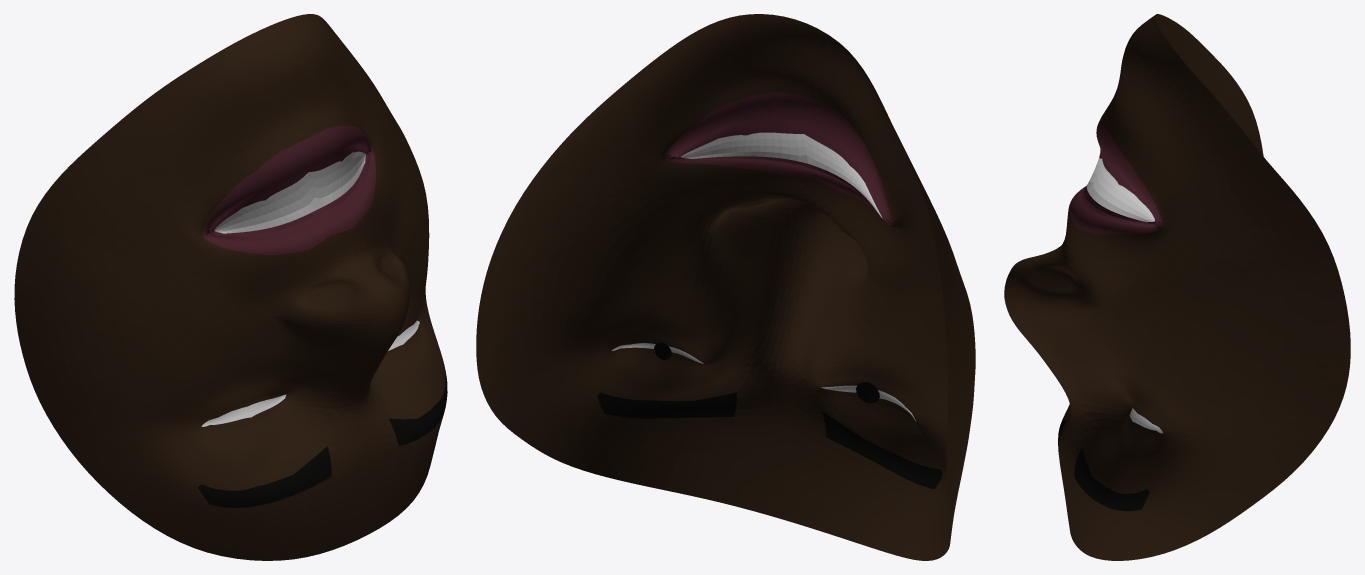
Rendered from IMG_7413.obj.
3 renders of one model, left to right at view 1: azimuth 30°, elevation 25°; view 2: azimuth 150°, elevation 25°; view 3: azimuth 270°, elevation 25°, orthographic. The views are drawn at different scales.
Parts seen in each view (by area): view 1: face_mesh_subdivided; view 2: face_mesh_subdivided; view 3: face_mesh_subdivided.
Part boxes in pixels (left/top/right/bottom): face_mesh_subdivided: left=14, top=14, right=447, bottom=560; face_mesh_subdivided: left=476, top=14, right=975, bottom=560; face_mesh_subdivided: left=1004, top=14, right=1350, bottom=560.
Bounding box in the file's own units: 0.6659 × 0.8067 × 0.5108.
